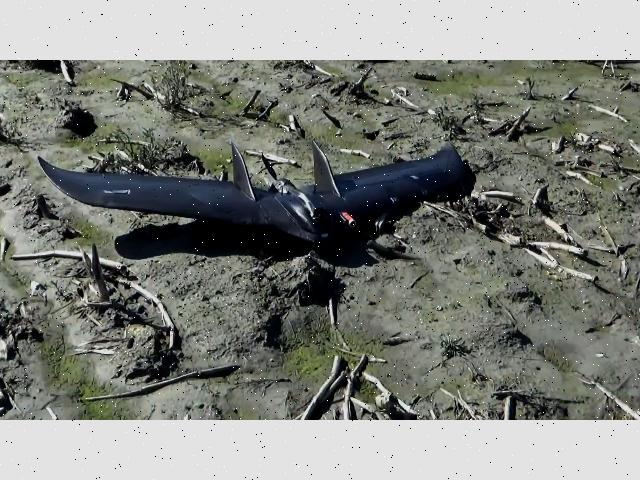Anti-Drone: (20, 134, 478, 250)
